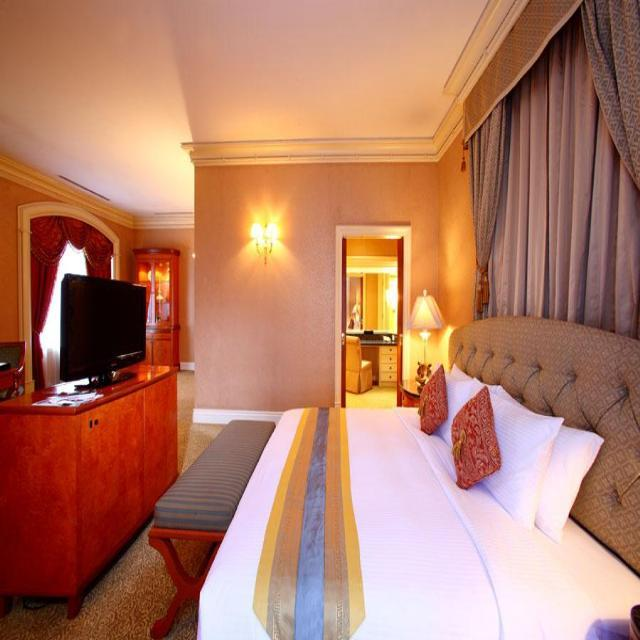Monitor: (51, 257, 166, 402)
bed: (196, 314, 640, 640)
sofa: (345, 336, 373, 394)
